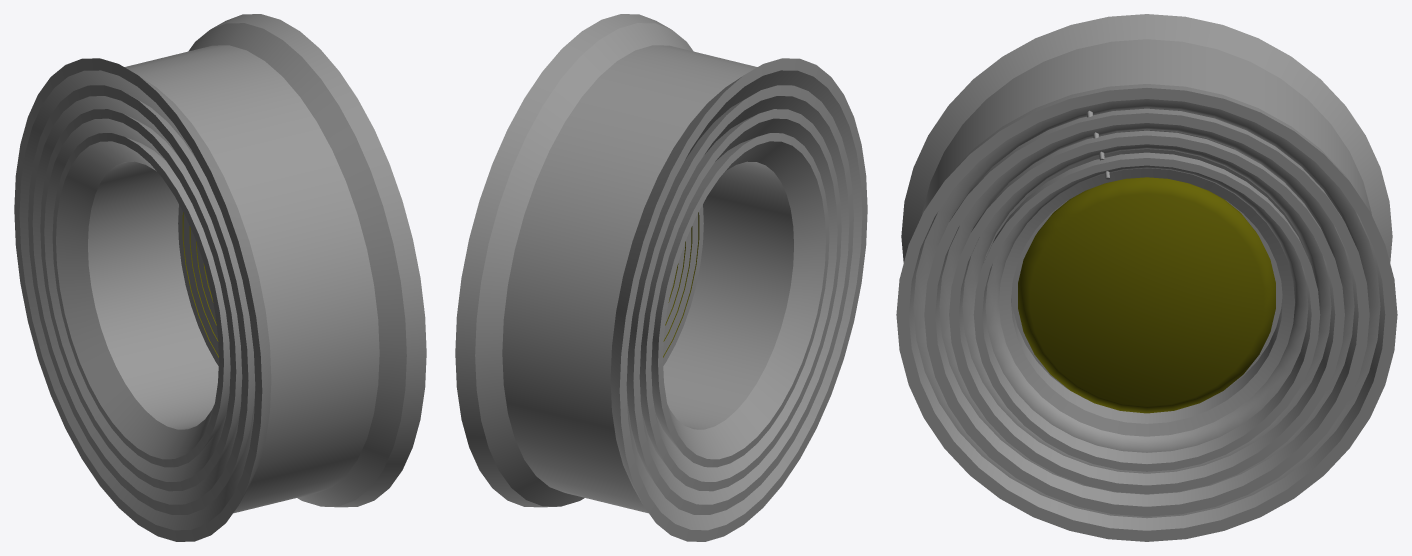
File: Rim_19.FBX
3 views of the same model, side by side, from view 1: azimuth 30°, elevation 25°; view 2: azimuth 150°, elevation 25°; view 3: azimuth 270°, elevation 25° (orthographic).
Parts seen in each view (by area): view 1: Rim_19_XL_InsideDetailed, Rim_19_S_InsideDetailed, Rim_19Cap_M_InsideDetailed, Rim_19_L_Lod0, Rim_19Cap_XL_InsideDetailed, Rim_19Cap_S_InsideDetailed, Rim_19_L_InsideDetailed, Rim_19Cap_XL_Lod0, Rim_19Cap_L_Lod0, Rim_19_M_InsideDetailed; view 2: Rim_19_XL_InsideDetailed, Rim_19_S_InsideDetailed, Rim_19Cap_M_InsideDetailed, Rim_19_L_Lod0, Rim_19Cap_XL_InsideDetailed, Rim_19Cap_S_InsideDetailed, Rim_19_L_InsideDetailed, Rim_19Cap_XL_Lod0, Rim_19Cap_L_Lod0, Rim_19_M_InsideDetailed; view 3: Rim_19_XL_InsideDetailed, Rim_19Cap_XL_Lod0, Rim_19_S_InsideDetailed, Rim_19_L_Lod0, Rim_19Cap_M_InsideDetailed, Rim_19Cap_S_InsideDetailed, Rim_19Cap_XL_InsideDetailed, Rim_19Cap_L_Lod0, Rim_19_M_InsideDetailed, Rim_19_L_InsideDetailed.
Part boxes in pixels (box(x1,y1,x2,y2)): Rim_19_XL_InsideDetailed: box(14, 14, 426, 541); Rim_19_S_InsideDetailed: box(52, 133, 230, 467); Rim_19Cap_M_InsideDetailed: box(40, 109, 242, 491); Rim_19_L_Lod0: box(28, 85, 248, 514); Rim_19Cap_XL_InsideDetailed: box(128, 18, 424, 510); Rim_19Cap_S_InsideDetailed: box(52, 133, 229, 466); Rim_19_L_InsideDetailed: box(126, 93, 255, 482); Rim_19Cap_XL_Lod0: box(14, 59, 261, 541); Rim_19Cap_L_Lod0: box(28, 86, 247, 514); Rim_19_M_InsideDetailed: box(40, 110, 241, 490); Rim_19_XL_InsideDetailed: box(455, 14, 867, 541); Rim_19_S_InsideDetailed: box(651, 133, 829, 467); Rim_19Cap_M_InsideDetailed: box(639, 109, 841, 491); Rim_19_L_Lod0: box(633, 85, 853, 514); Rim_19Cap_XL_InsideDetailed: box(457, 14, 754, 510); Rim_19Cap_S_InsideDetailed: box(651, 134, 828, 466); Rim_19_L_InsideDetailed: box(626, 93, 755, 482); Rim_19Cap_XL_Lod0: box(620, 60, 866, 541); Rim_19Cap_L_Lod0: box(633, 86, 853, 514); Rim_19_M_InsideDetailed: box(640, 110, 840, 490); Rim_19_XL_InsideDetailed: box(896, 14, 1397, 541); Rim_19Cap_XL_Lod0: box(898, 88, 1396, 541); Rim_19_S_InsideDetailed: box(973, 152, 1320, 471); Rim_19_L_Lod0: box(924, 113, 1369, 516); Rim_19Cap_M_InsideDetailed: box(949, 130, 1344, 494); Rim_19Cap_S_InsideDetailed: box(974, 153, 1320, 471); Rim_19Cap_XL_InsideDetailed: box(907, 15, 1390, 246); Rim_19Cap_L_Lod0: box(925, 114, 1369, 516); Rim_19_M_InsideDetailed: box(949, 131, 1344, 493); Rim_19_L_InsideDetailed: box(949, 108, 1344, 221).
Size of what is drawn, in the model's own units: 633 by 1704 by 1704.
